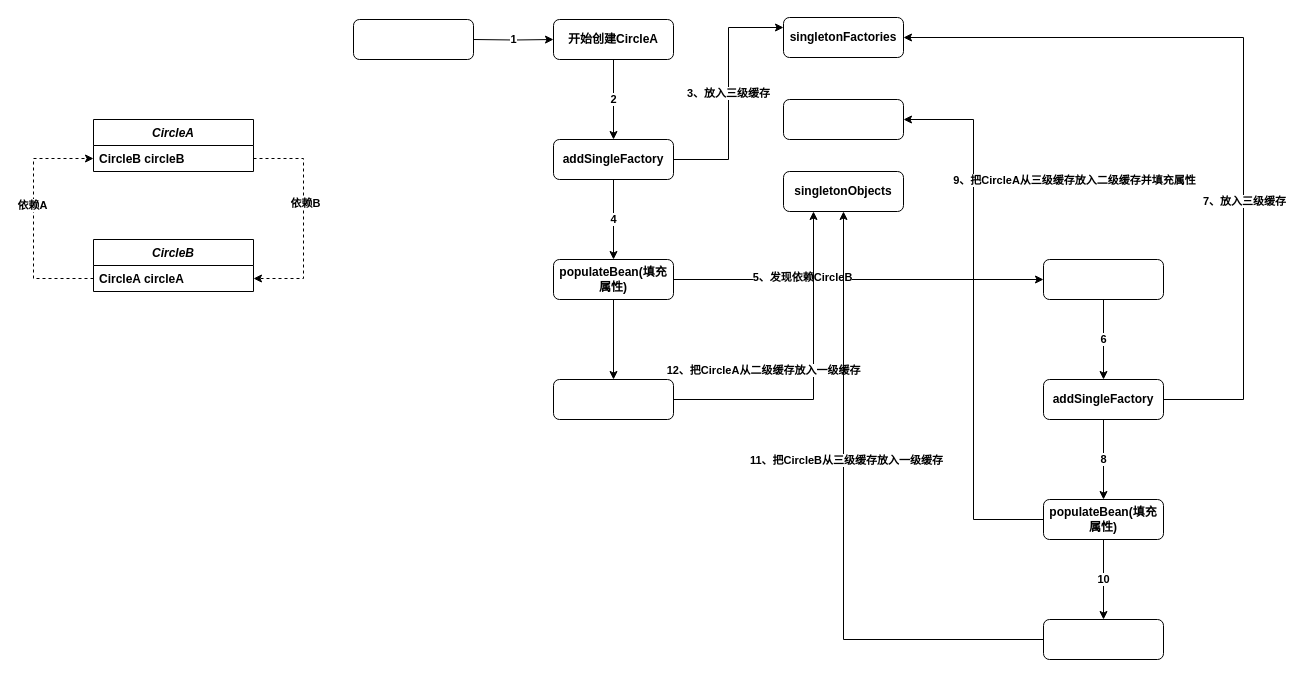
Image size: 1303x677. Some labels were removed from this diagram. Here are the shapes that lost their labels. From the top down, the centre of each, then its label:
At [413,39]: "创建CircleA".
At [843,119]: "earlySingletonObjects".
At [1103,279]: "开始创建CircleB".
At [613,399]: "结束创建CircleA".
At [1103,639]: "结束创建CircleB".
